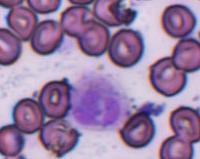N: (71, 70, 131, 131)
